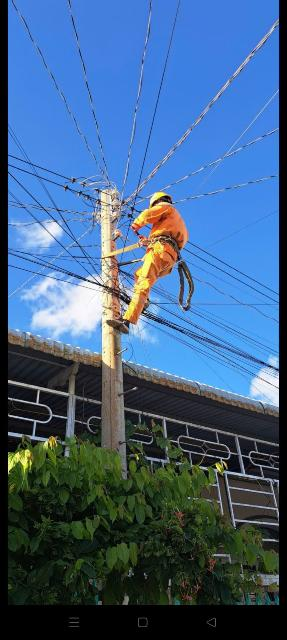gloves: (137, 235, 151, 247), (131, 220, 143, 233)
harness: (157, 235, 180, 253)
helmet: (144, 191, 176, 205)
shoes: (107, 314, 141, 340), (137, 294, 154, 314)
